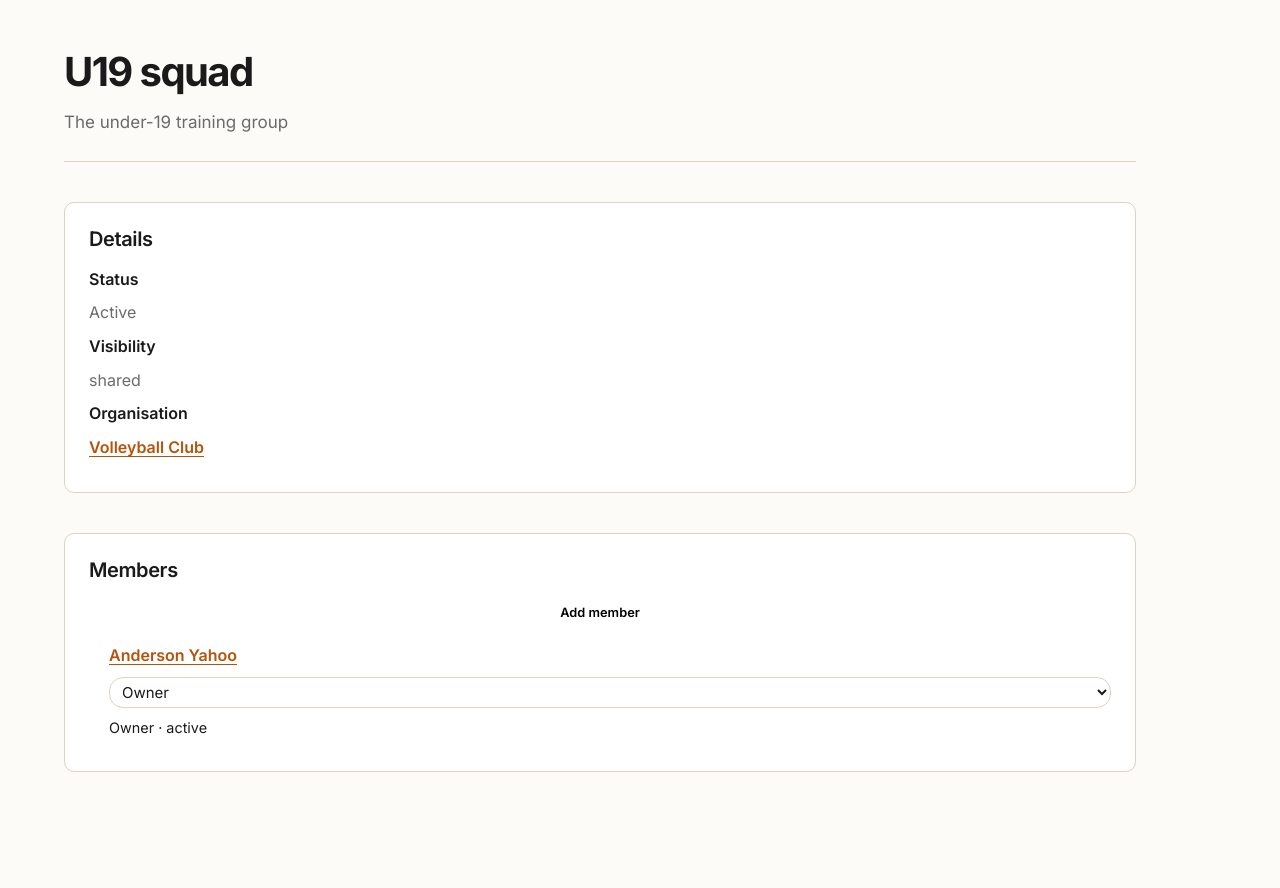
Scenario: GroupDetail members › refuses to submit without a selected member
This screenshot has width=1280, height=888.
Expected: the link "Anderson Yahoo" is shown, [109,646,237,666]
What coordinates should you click on to do the following:
click the button "Add member"
I would click on:
 (600, 613)
Its box is [89,598,1111,628].
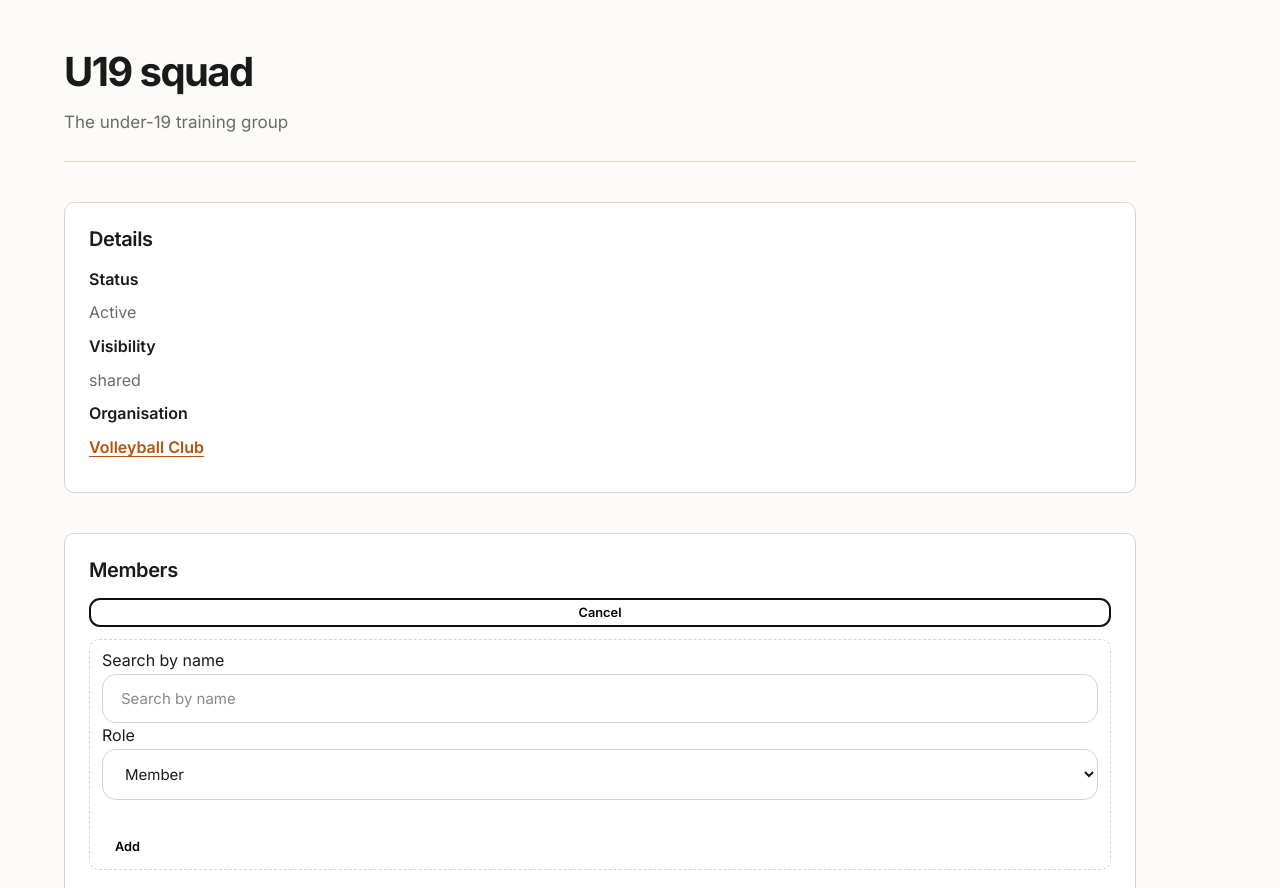
What coordinates should you click on to do the following:
click the button "Add"
I would click on:
 (128, 846)
Its box is [102,832,153,861].
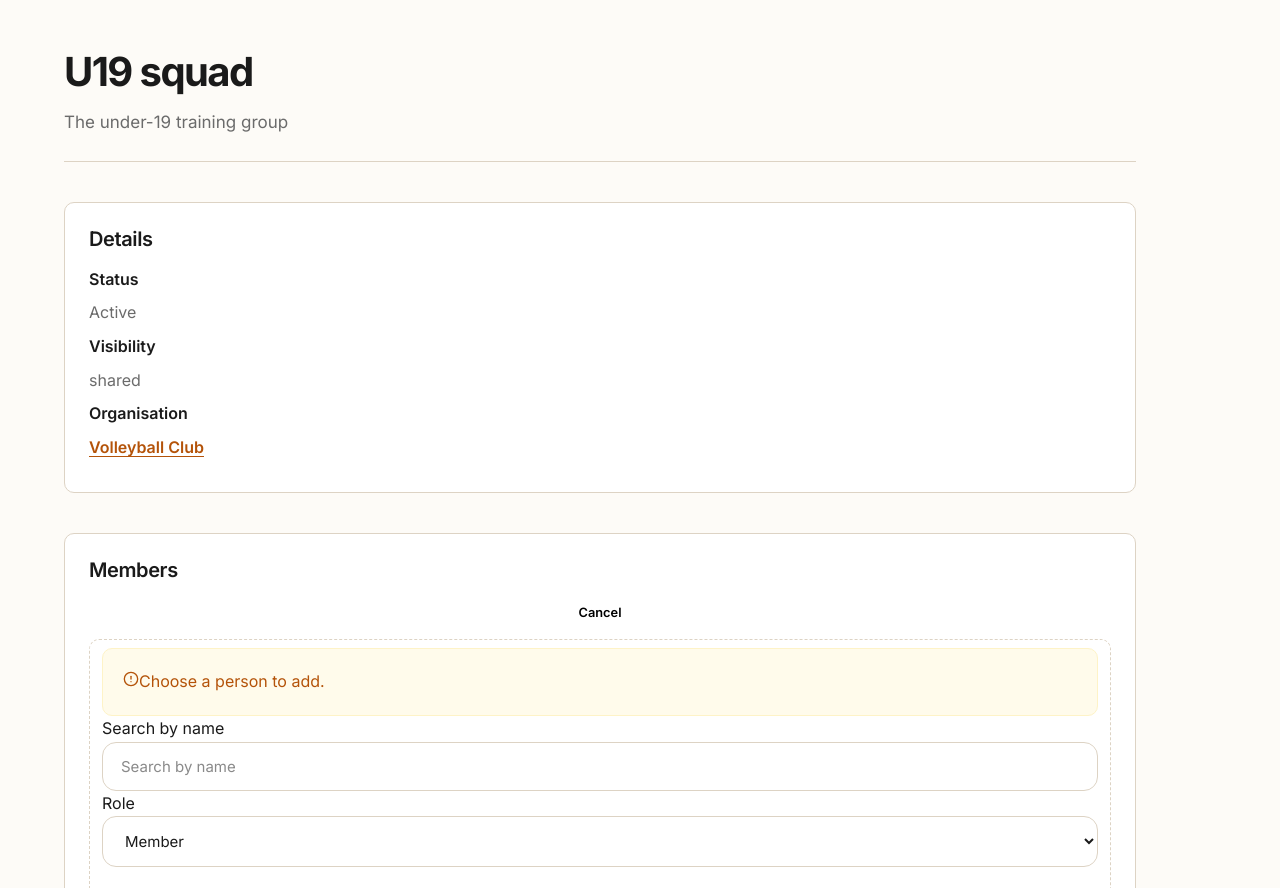
Expected: the message reads "Choose a person to add.", [139,672,325,692]
